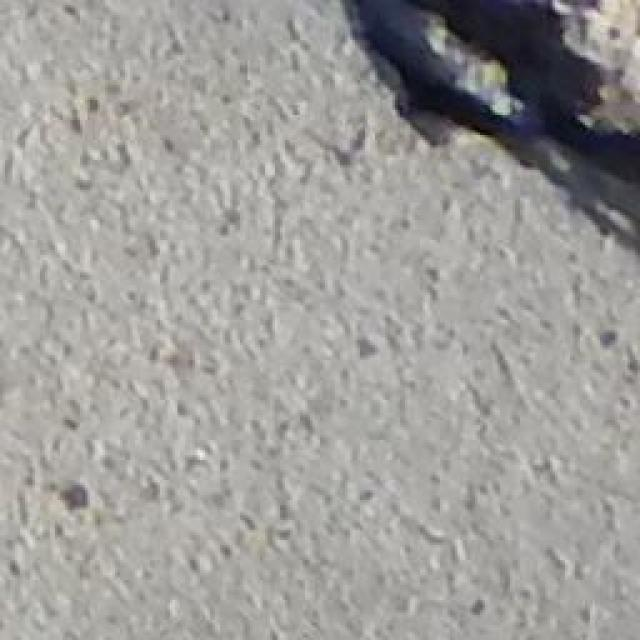concrete-crack: (332, 0, 640, 270)
